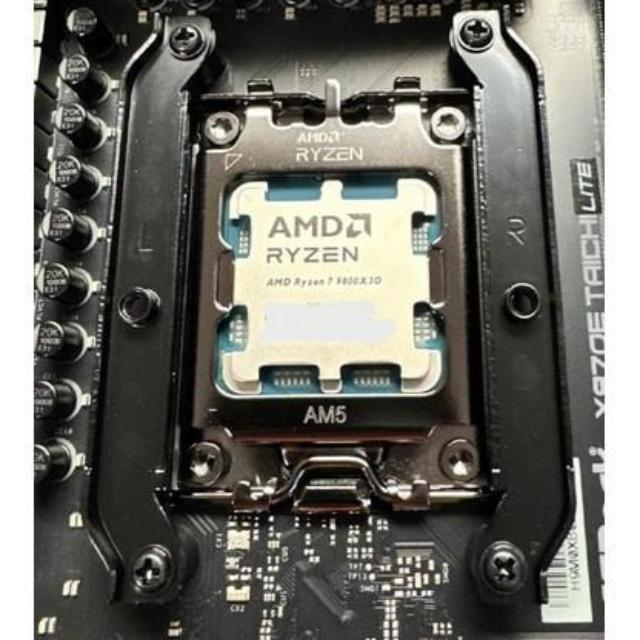CPU: (224, 173, 438, 390)
